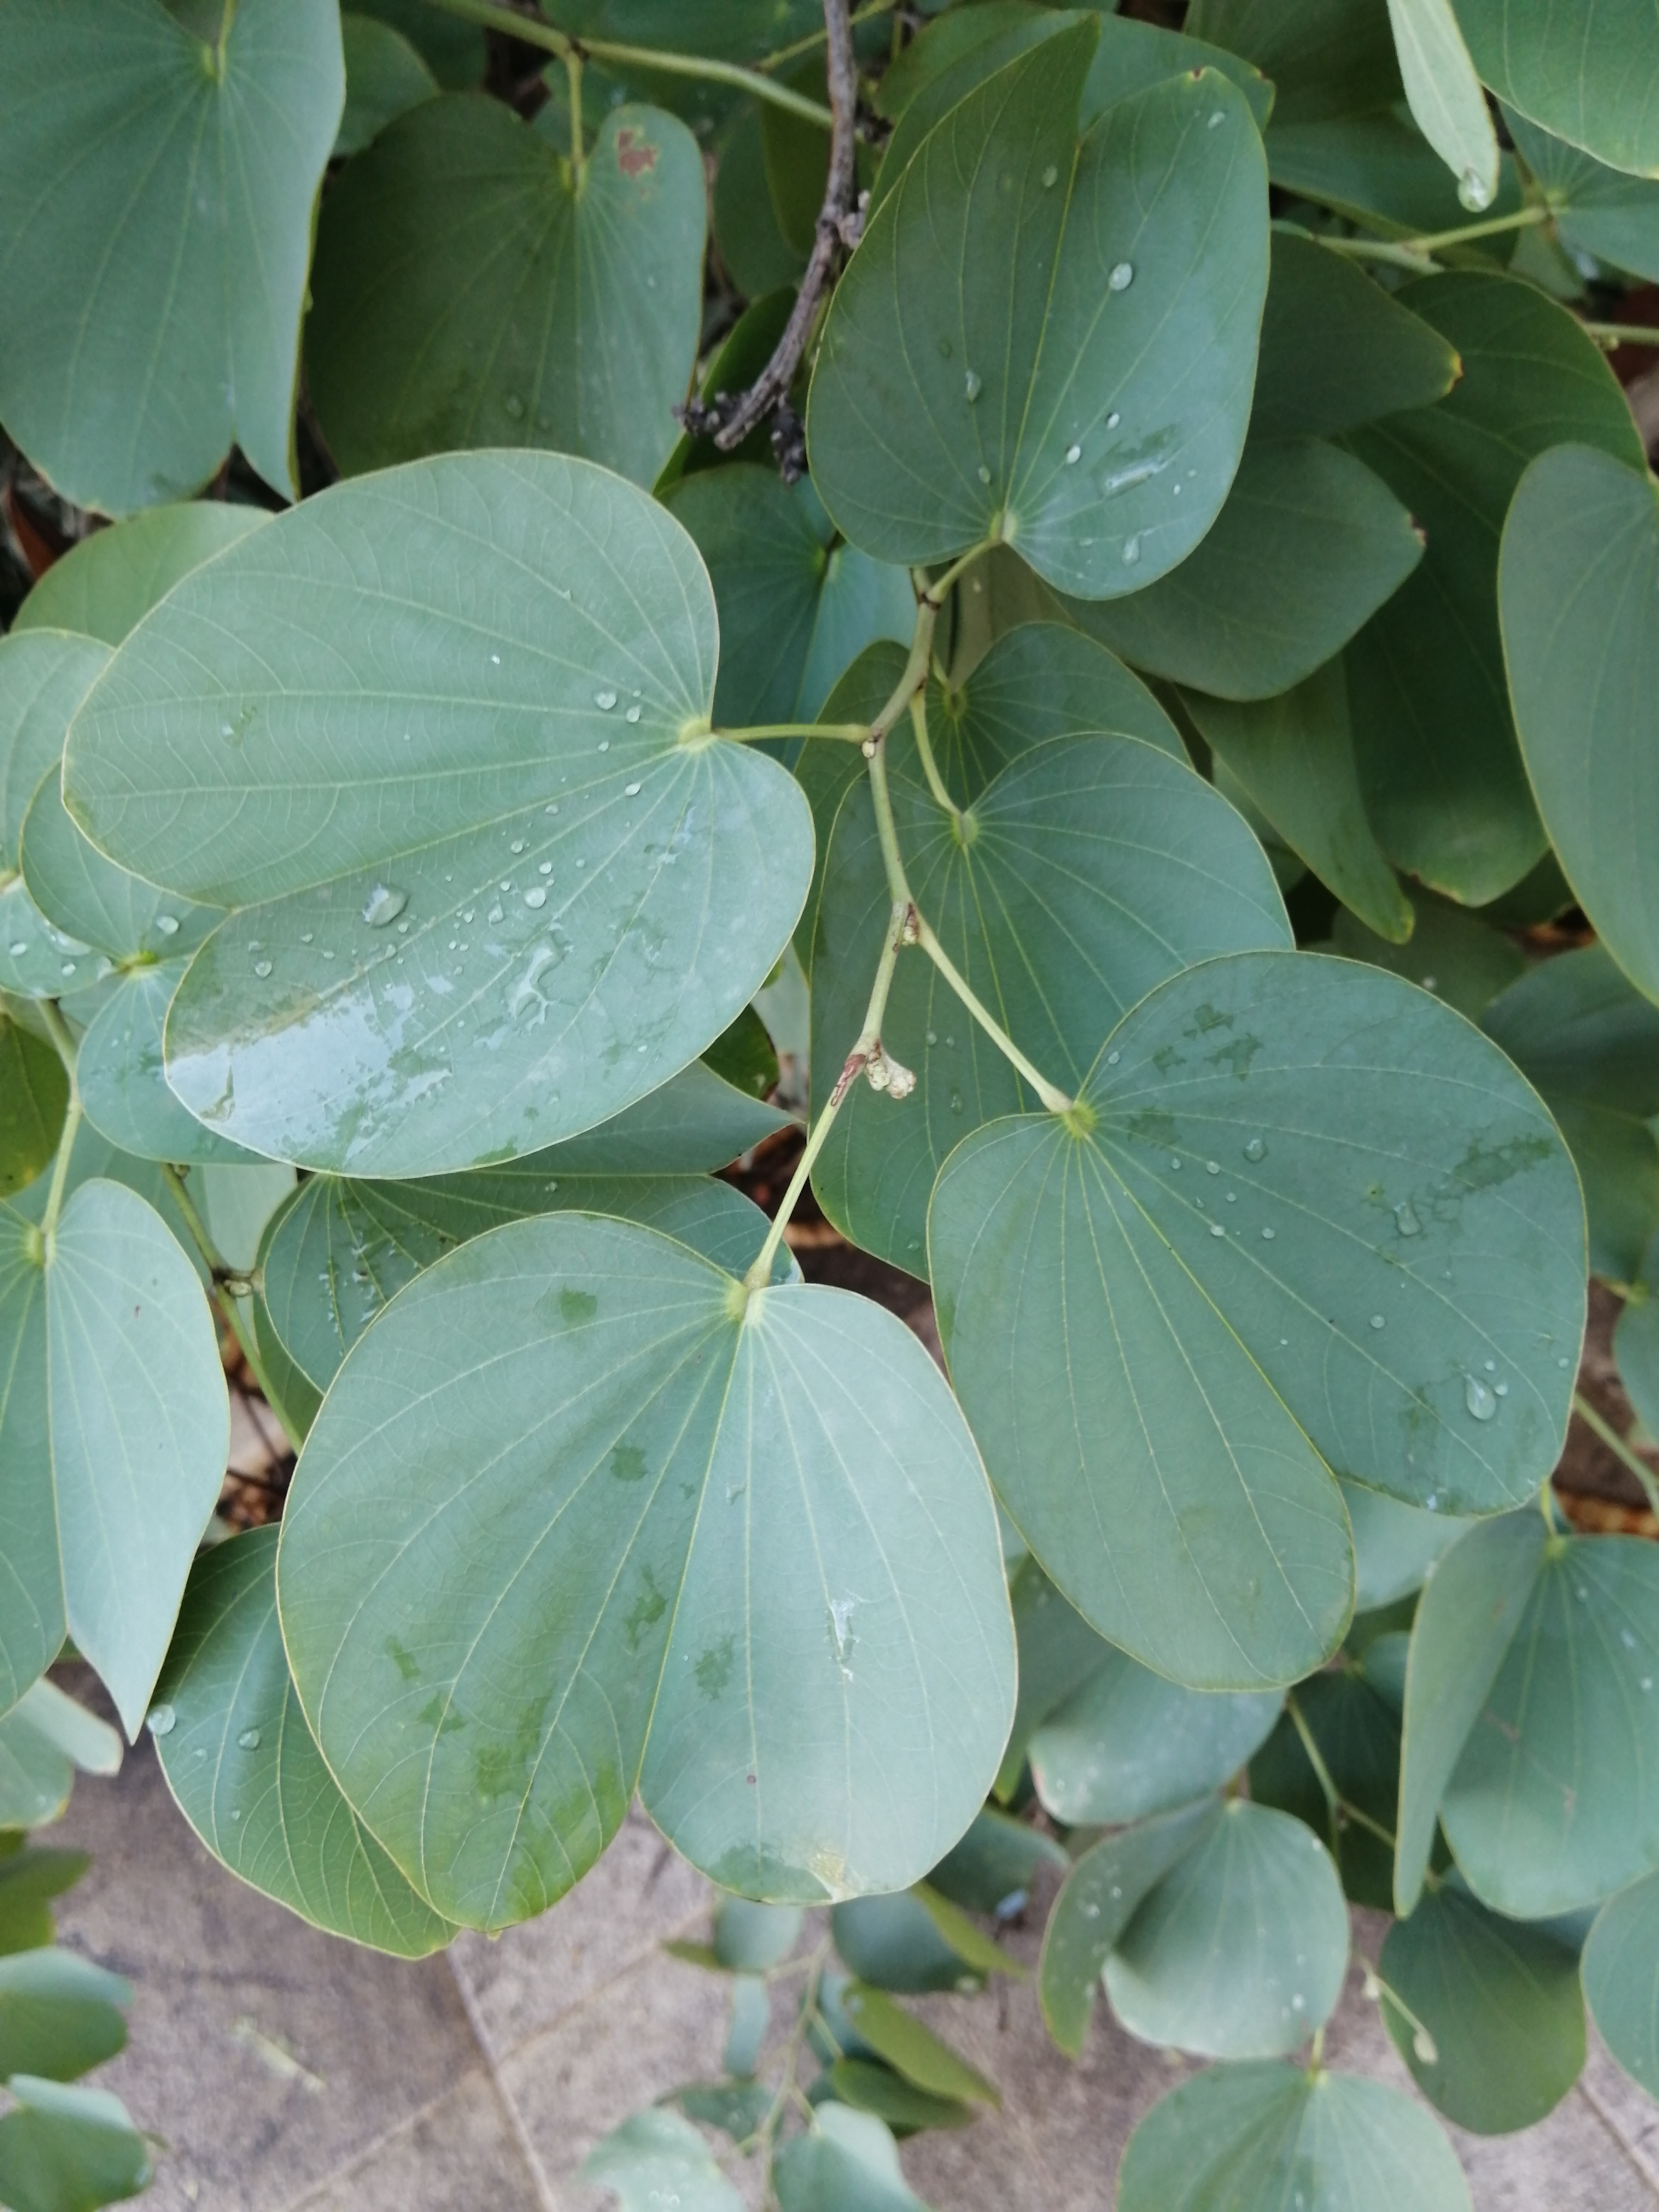healthy: (56, 428, 847, 1195), (279, 1237, 1068, 1944), (913, 954, 1603, 1634), (789, 57, 1363, 604), (817, 716, 1319, 1278), (16, 0, 399, 526), (3, 1146, 263, 1777), (985, 1750, 1399, 2092)
nothealthy: (279, 37, 802, 613)
